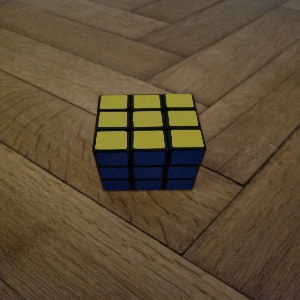cube: (92, 94, 208, 192)
